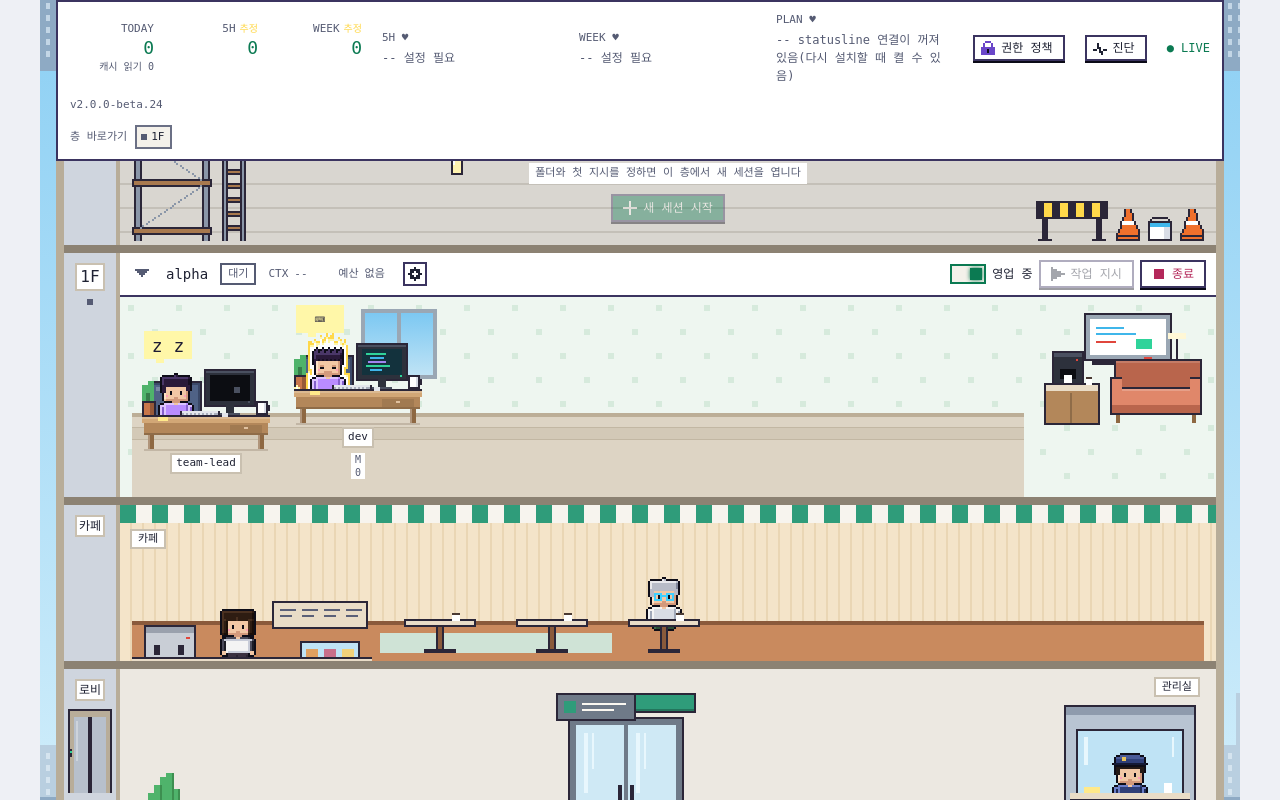
it: ActivityBubble (디자인 7.5) › 경과 초는 1초마다 바뀐다
(page scrolled)
Focus the button with test id "desk-dev" at (358, 401), box left=292, top=305, right=424, bottom=496
Wait 2000 ms
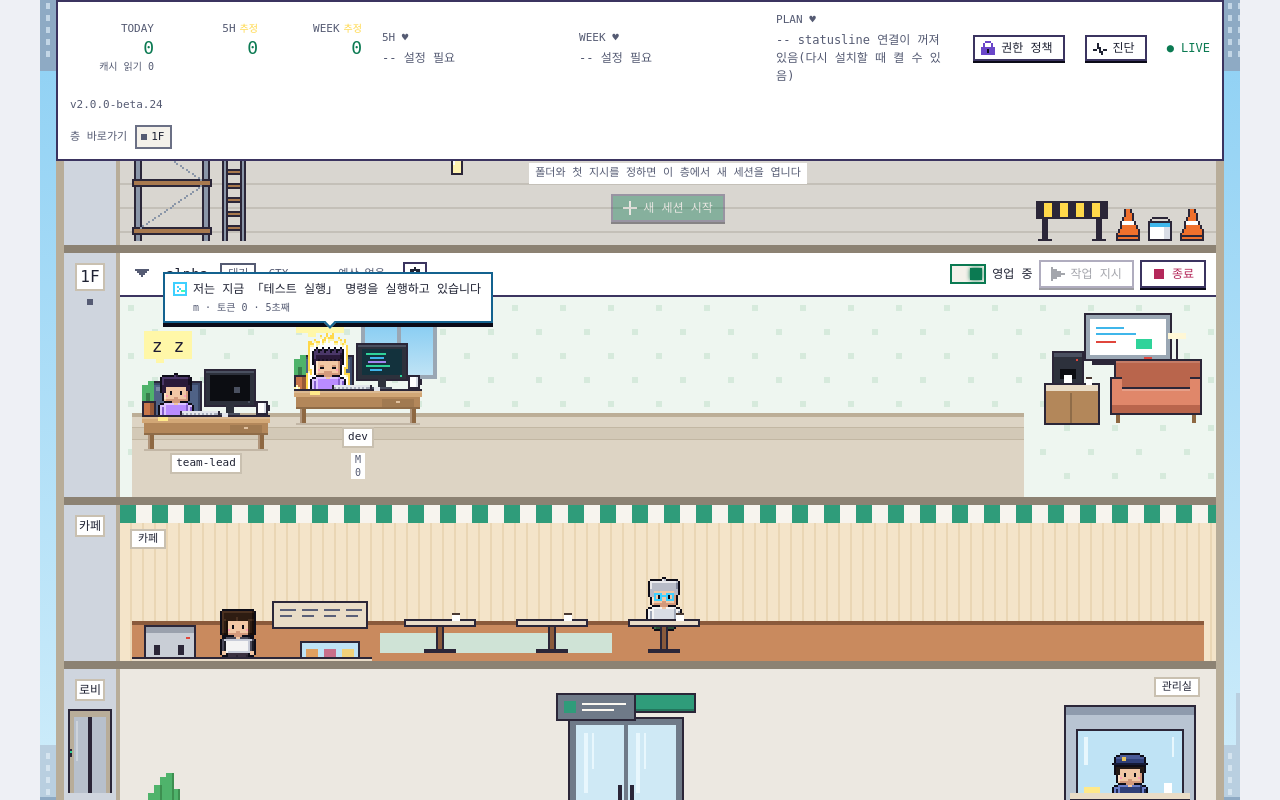
Expected: the text with class "meta" reads "m · 토큰 0 · 5초째", left=193, top=302, right=290, bottom=313
